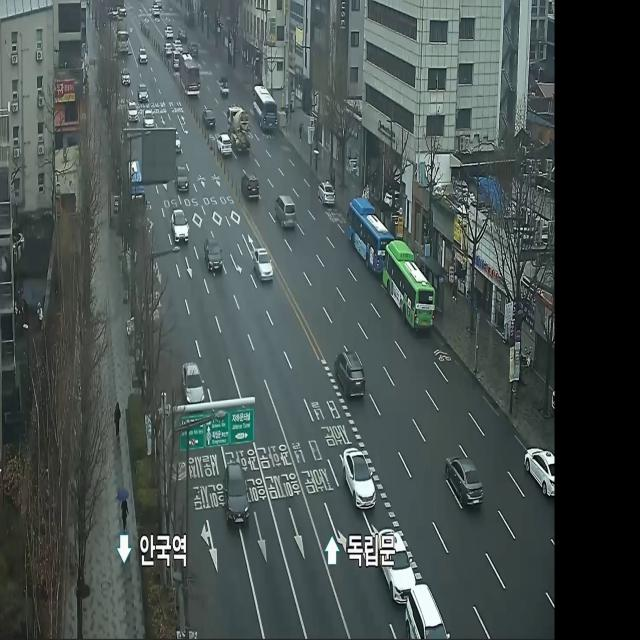car: (378, 232, 442, 336), (343, 181, 395, 278), (252, 80, 280, 136)
motorcycle: (380, 526, 449, 640), (442, 439, 487, 523), (338, 436, 379, 523), (332, 336, 371, 418), (222, 456, 254, 538), (177, 356, 208, 408), (273, 188, 299, 241), (250, 242, 276, 287), (204, 230, 226, 282), (238, 165, 263, 210), (168, 204, 191, 252), (318, 174, 337, 213)
